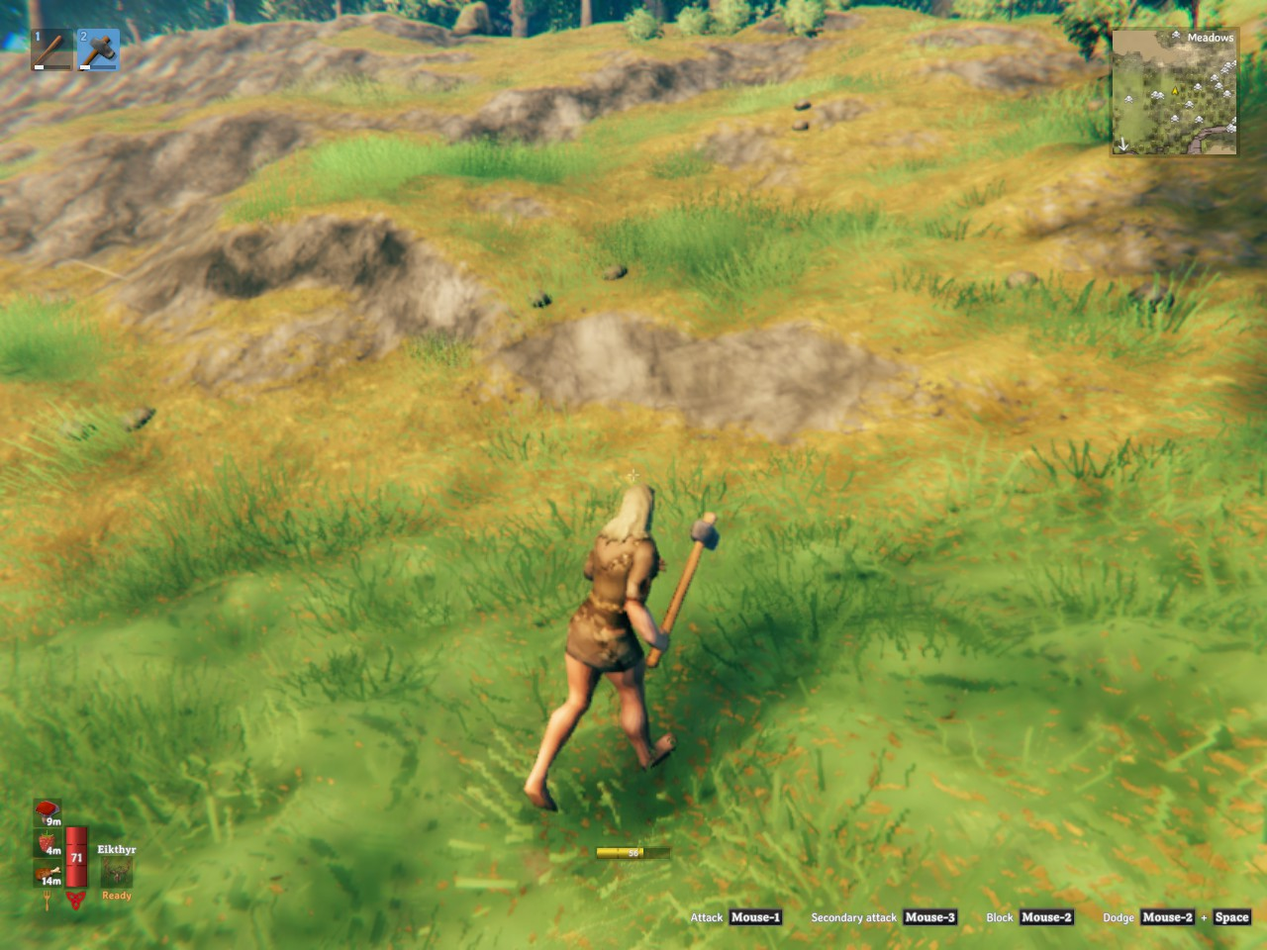Food Indicator: (36, 797, 63, 891)
Health Bar: (63, 820, 90, 891)
Hotbar: (25, 21, 398, 78)
Stamina Bar: (590, 842, 674, 865)
Stone: (1129, 279, 1173, 312), (123, 407, 155, 431), (61, 420, 95, 440), (1006, 270, 1039, 288), (530, 289, 551, 307), (605, 265, 627, 279), (792, 119, 809, 131), (794, 99, 812, 110)
